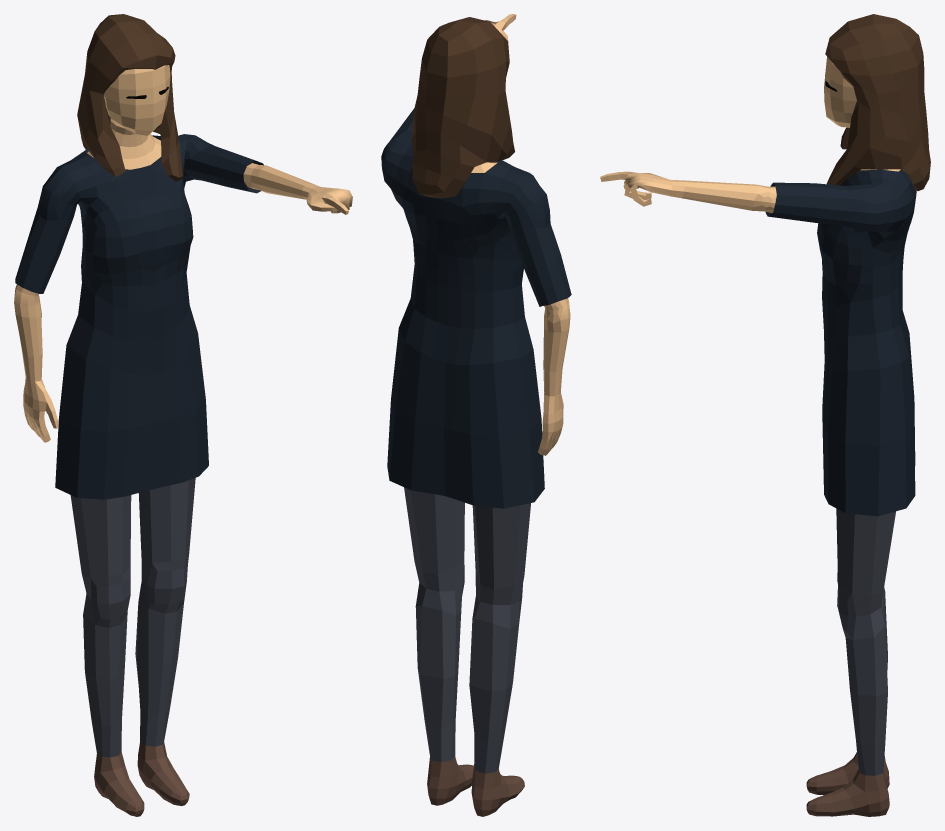
The model's file is mujer.obj.
3 renders of one model, left to right at view 1: azimuth 30°, elevation 25°; view 2: azimuth 150°, elevation 25°; view 3: azimuth 270°, elevation 25°, orthographic. The views are drawn at different scales.
Parts seen in each view (by area): view 1: WomanCasual; view 2: WomanCasual; view 3: WomanCasual.
Part boxes in pixels (box(x1,y1,x2,y2)): WomanCasual: box(14, 14, 352, 816); WomanCasual: box(381, 14, 571, 816); WomanCasual: box(600, 14, 930, 816).
Size of the model in its own units: 19.61 by 66.87 by 25.64.
1 material, 1 textured.
